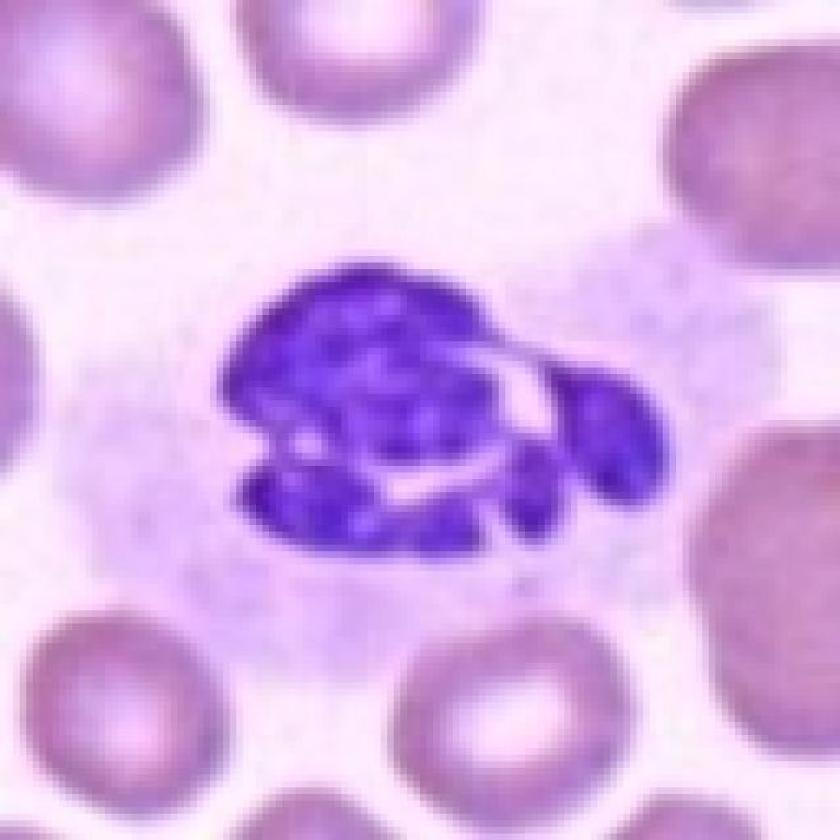neutrophil: (51, 226, 798, 696)
